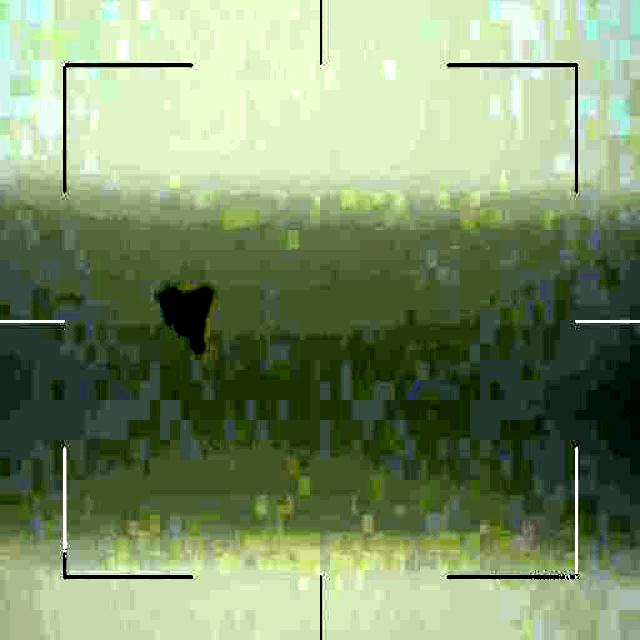bird: (152, 280, 225, 354)
